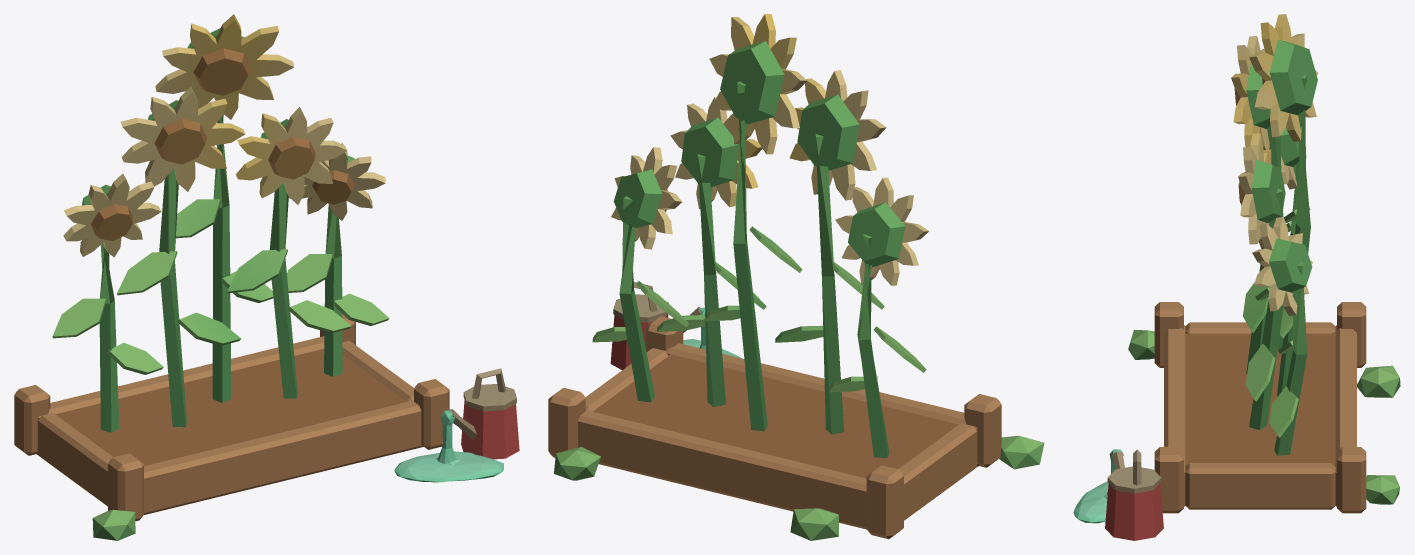
The model's file is ranch_sunflower_patch.fbx.
3 views of the same model, side by side, from view 1: azimuth 30°, elevation 25°; view 2: azimuth 150°, elevation 25°; view 3: azimuth 270°, elevation 25° (orthographic). The views are drawn at different scales.
Parts seen in each view (by area): view 1: ranch_sunflower_patch; view 2: ranch_sunflower_patch; view 3: ranch_sunflower_patch.
Part boxes in pixels (<box>): ranch_sunflower_patch: <box>14,14,519,540</box>; ranch_sunflower_patch: <box>548,14,1044,540</box>; ranch_sunflower_patch: <box>1073,14,1400,540</box>.
Bounding box in the file's own units: 8.72 × 8.76 × 6.1.
